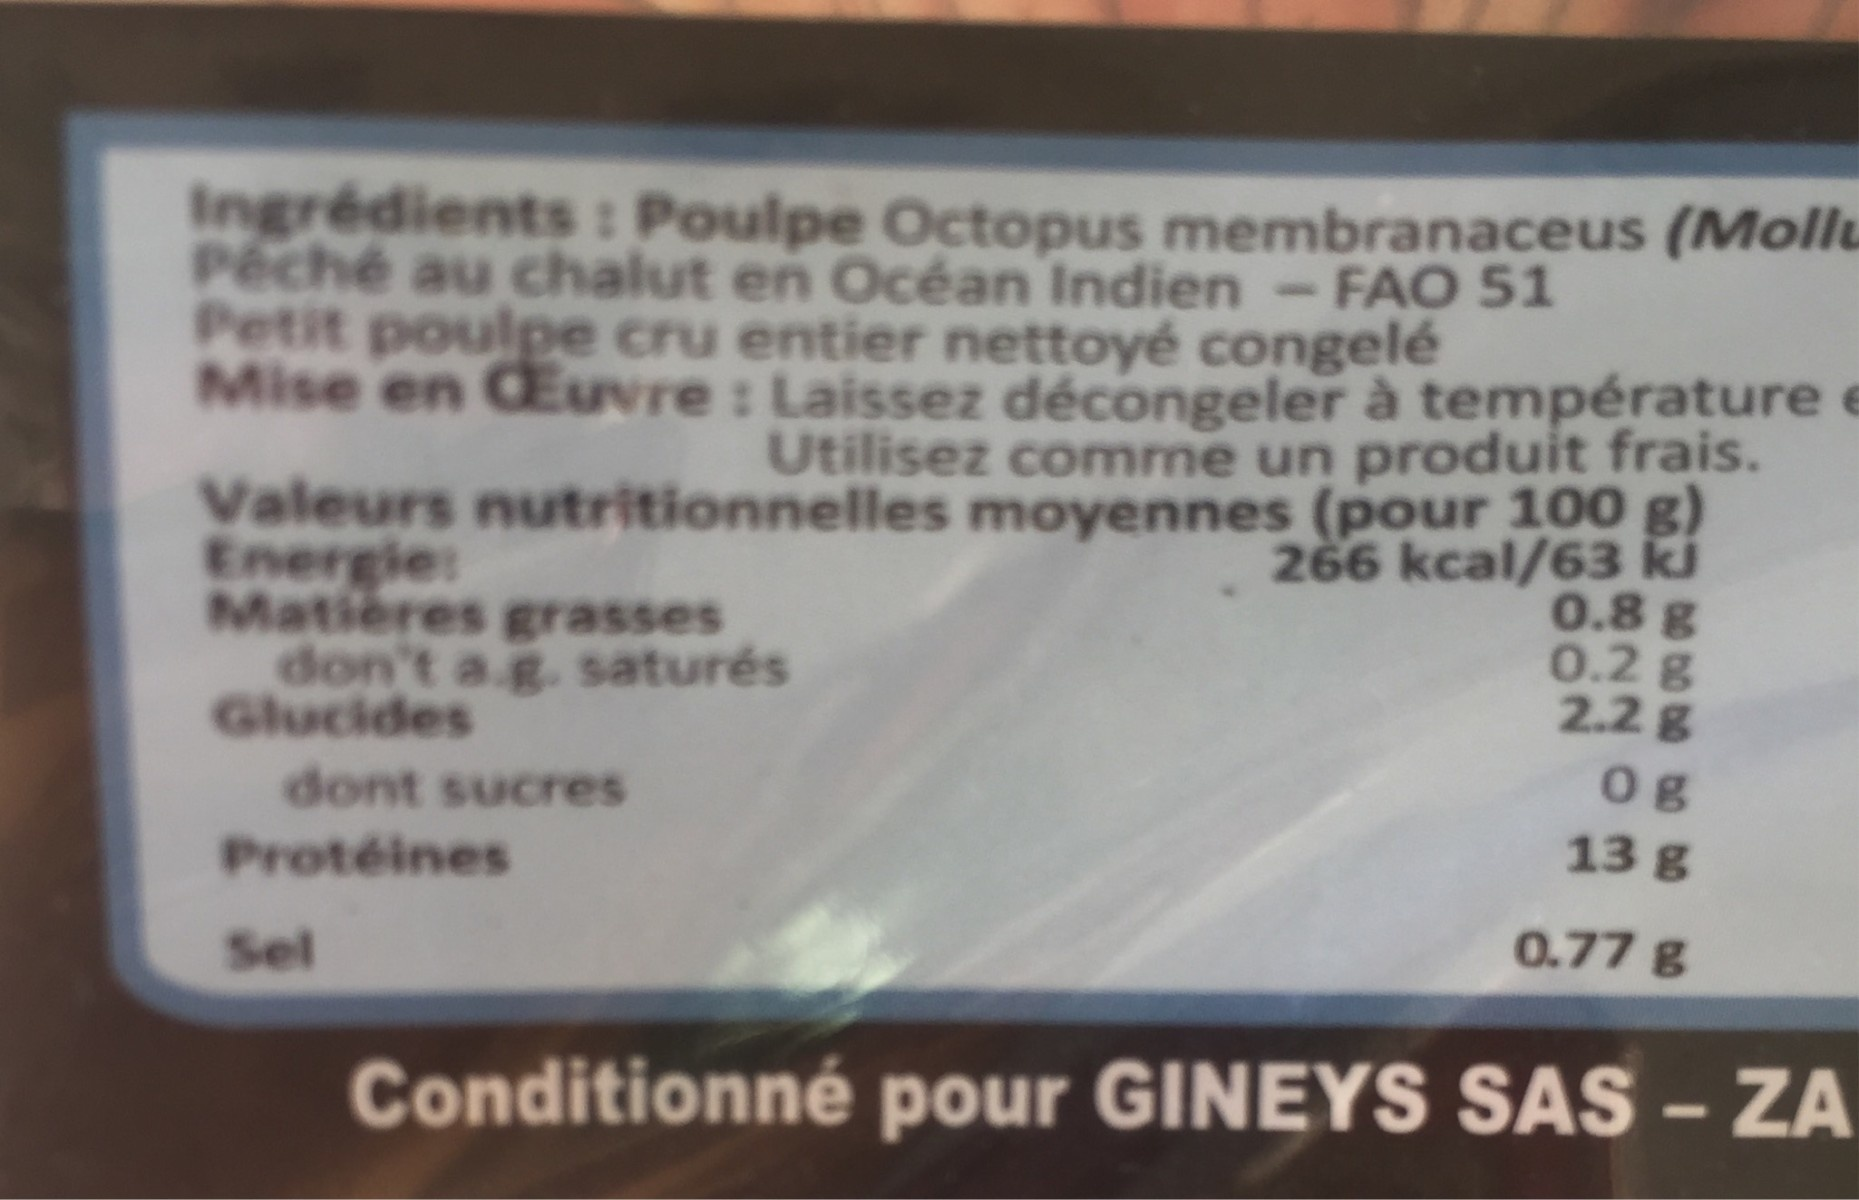column: (209, 535, 793, 974), (1271, 542, 1696, 981)
table: (194, 479, 1706, 985)
